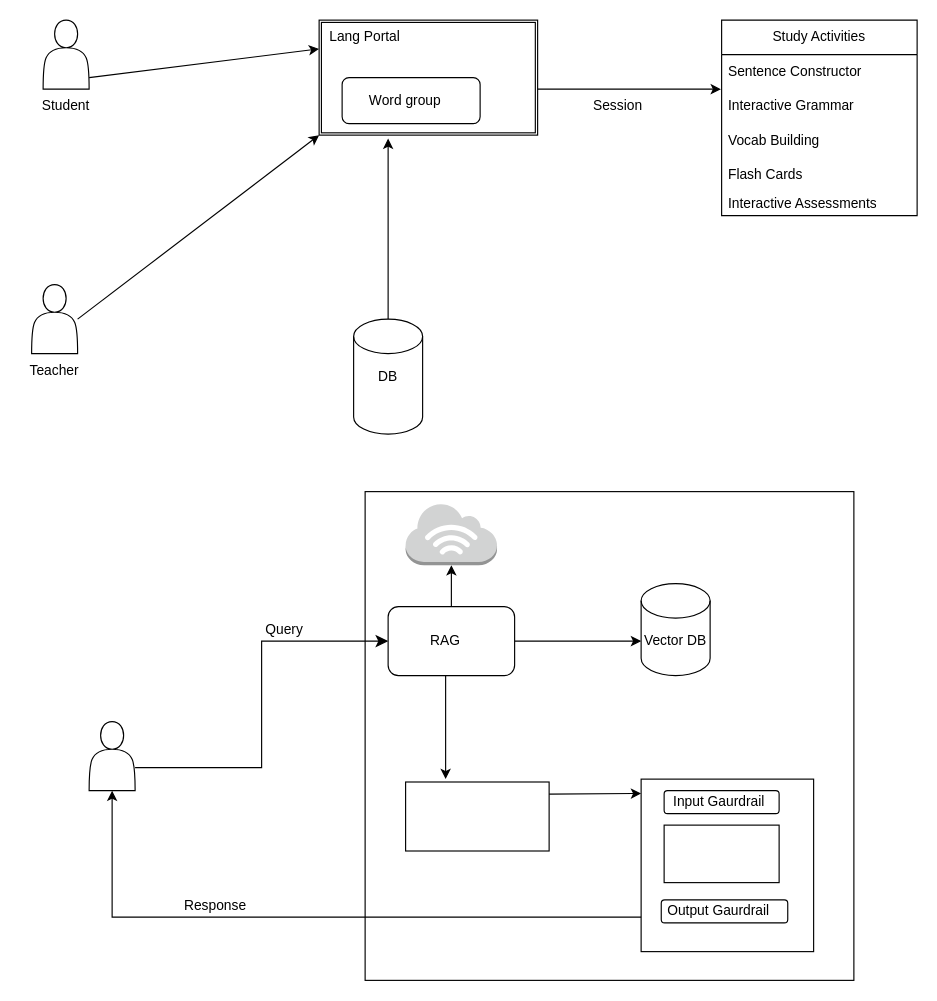
Image size: 937x1001. Some labels were removed from this diagram. The box of each missing label's shape, as (x1, y1, x2, y2) in pixels:
Jais LLM-30B: (663, 824, 779, 883)
Prompt Cache: (404, 781, 549, 851)
User: (88, 720, 135, 791)
